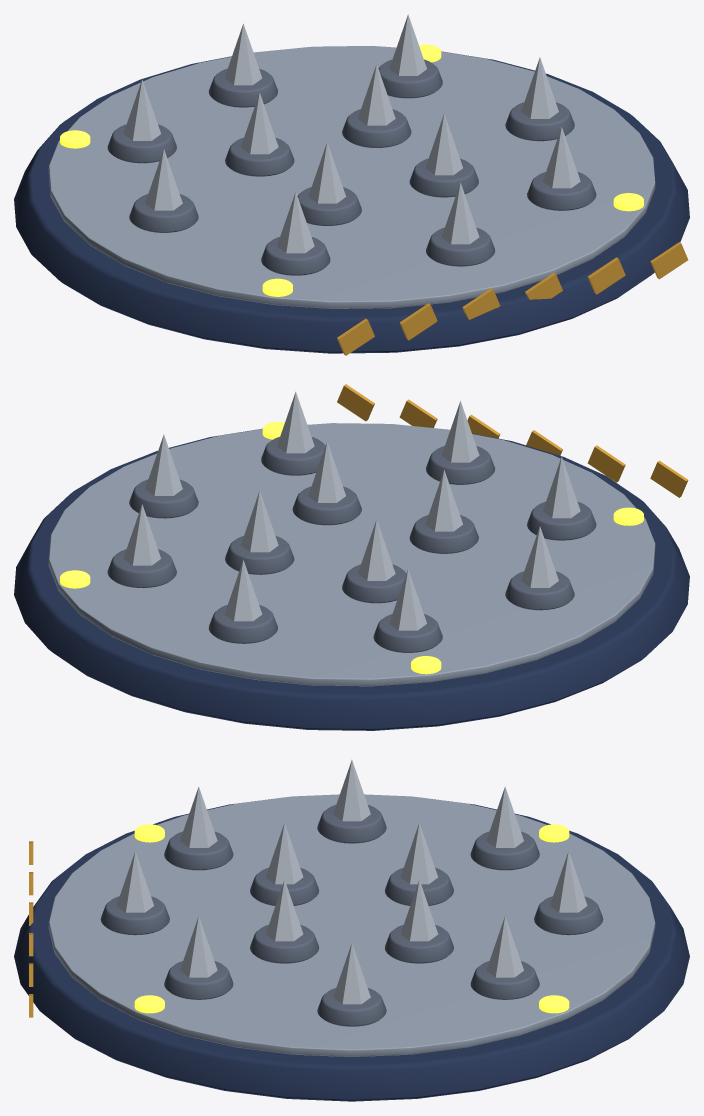
Rendered from trap_spike_armed.glb.
3 renders of one model, top to bottom at view 1: azimuth 30°, elevation 25°; view 2: azimuth 150°, elevation 25°; view 3: azimuth 270°, elevation 25°, orthographic.
Parts seen in each view (by area): view 1: trap_spike_plate_rim, trap_spike_plate, trap_spike_hazard, trap_spike_socket8, trap_spike_socket3, trap_spike_socket2, trap_spike_socket5, trap_spike_socket7, trap_spike_socket6, trap_spike_socket9, trap_spike_socket4, trap_spike_socket0 (+15 smaller); view 2: trap_spike_plate_rim, trap_spike_plate, trap_spike_hazard, trap_spike_socket9, trap_spike_socket11, trap_spike_socket1, trap_spike_socket0, trap_spike_socket10, trap_spike_socket8, trap_spike_socket4, trap_spike_socket7, trap_spike_socket6 (+15 smaller); view 3: trap_spike_plate_rim, trap_spike_plate, trap_spike_socket6, trap_spike_socket10, trap_spike_socket5, trap_spike_socket11, trap_spike_socket4, trap_spike_socket7, trap_spike_socket9, trap_spike_socket0, trap_spike_socket3, trap_spike_socket8 (+15 smaller).
Boxes of the visible parts, box(x1,y1,x2,y2) form: trap_spike_plate_rim: box(48, 45, 655, 308); trap_spike_plate: box(14, 51, 689, 353); trap_spike_hazard: box(337, 242, 688, 355); trap_spike_socket8: box(129, 194, 198, 232); trap_spike_socket3: box(342, 109, 411, 147); trap_spike_socket2: box(225, 137, 294, 176); trap_spike_socket5: box(527, 172, 596, 210); trap_spike_socket7: box(261, 237, 330, 275); trap_spike_socket6: box(426, 227, 495, 266); trap_spike_socket9: box(107, 124, 176, 163); trap_spike_socket4: box(505, 102, 574, 141); trap_spike_socket0: box(409, 158, 478, 197); trap_spike_plate_rim: box(48, 423, 655, 686); trap_spike_plate: box(14, 428, 689, 730); trap_spike_hazard: box(337, 384, 688, 497); trap_spike_socket9: box(373, 614, 442, 652); trap_spike_socket11: box(107, 549, 176, 587); trap_spike_socket1: box(409, 515, 478, 553); trap_spike_socket0: box(292, 486, 361, 525); trap_spike_socket10: box(208, 605, 277, 643); trap_spike_socket8: box(505, 571, 574, 610); trap_spike_socket4: box(129, 479, 198, 518); trap_spike_socket7: box(527, 501, 596, 540); trap_spike_socket6: box(426, 446, 495, 484); trap_spike_plate_rim: box(48, 794, 655, 1056); trap_spike_plate: box(14, 797, 689, 1101); trap_spike_socket6: box(100, 896, 169, 935); trap_spike_socket10: box(534, 896, 603, 935); trap_spike_socket5: box(164, 961, 233, 999); trap_spike_socket11: box(470, 961, 539, 999); trap_spike_socket4: box(317, 988, 386, 1026); trap_spike_socket7: box(164, 831, 233, 870); trap_spike_socket9: box(470, 831, 539, 870); trap_spike_socket0: box(250, 924, 318, 963); trap_spike_socket3: box(385, 924, 453, 963); trap_spike_socket8: box(317, 805, 386, 843).
Bounding box in the file's own units: 1.56 × 0.28 × 1.56.
